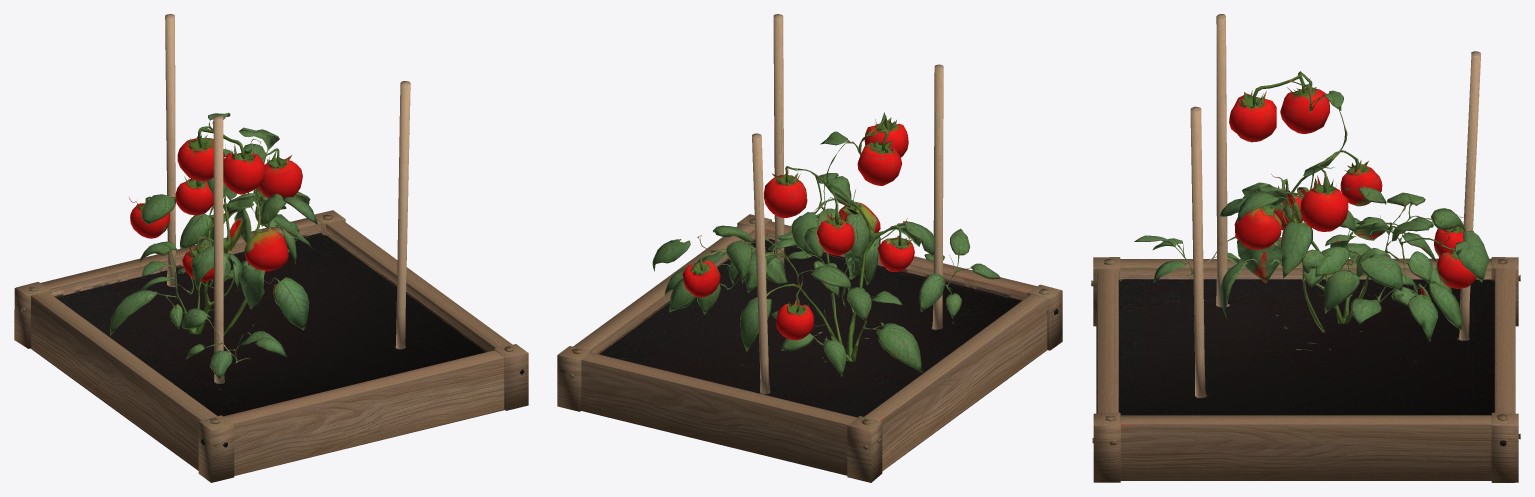
The model's file is tomato_garden.glb.
The picture shows the model from 3 angles, left to right: view 1: azimuth 30°, elevation 25°; view 2: azimuth 150°, elevation 25°; view 3: azimuth 270°, elevation 25°; orthographic projection. The views are drawn at different scales.
Bounding box in the file's own units: 0.8901 × 0.8169 × 0.9517.
Materials: 1 (1 with a texture image).
